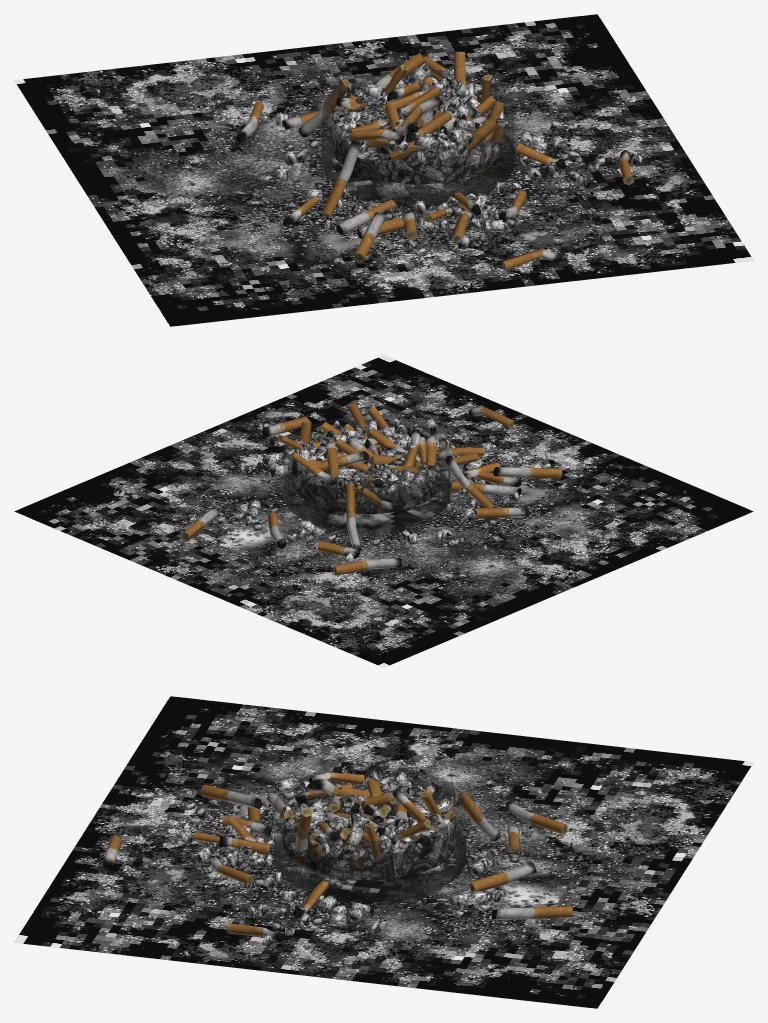
Rendered from ptish_exceptionally_full_ashtray.glb.
The picture shows the model from 3 angles, top to bottom: view 1: azimuth 30°, elevation 25°; view 2: azimuth 150°, elevation 25°; view 3: azimuth 270°, elevation 25°; orthographic projection. The views are drawn at different scales.
Visible parts, largest first — view 1: Ashtray2; view 2: Ashtray2; view 3: Ashtray2.
Boxes of the visible parts, <box> form: Ashtray2: <box>14,14,753,326</box>; Ashtray2: <box>14,355,753,667</box>; Ashtray2: <box>14,696,753,1008</box>.
Size of the model in its own units: 36.74 by 4.44 by 36.74.
Materials: 4 (4 with a texture image).
